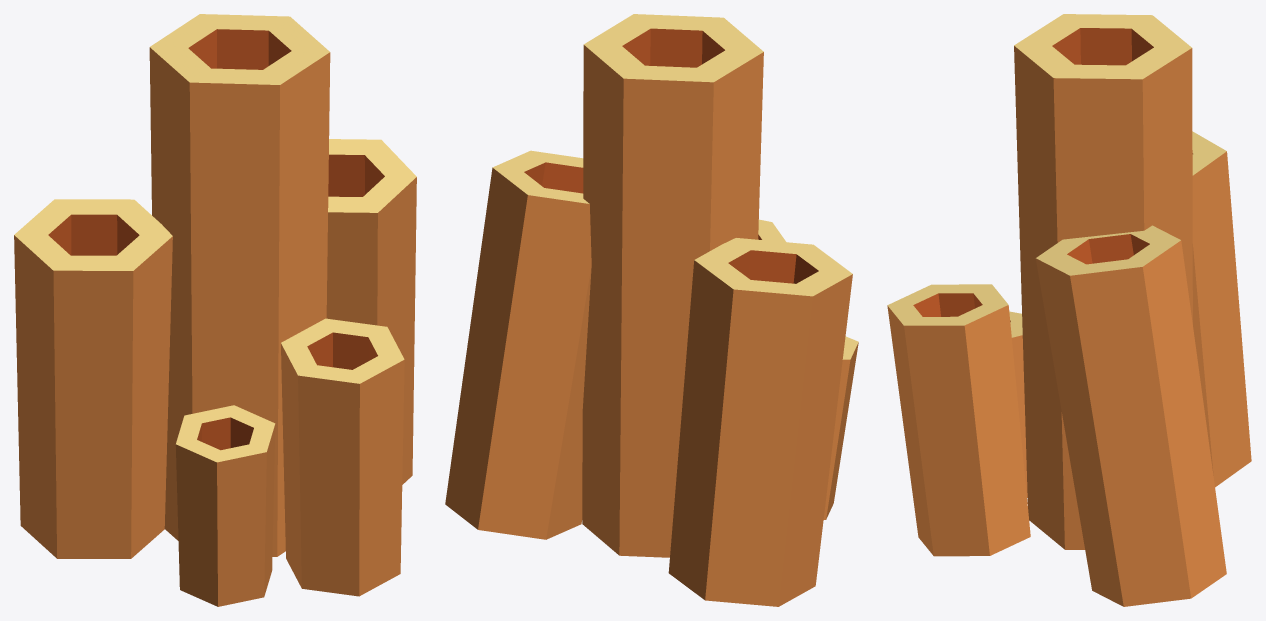
File: coral_tube_orange.fbx
3 renders of one model, left to right at view 1: azimuth 30°, elevation 25°; view 2: azimuth 150°, elevation 25°; view 3: azimuth 270°, elevation 25°, orthographic.
Parts seen in each view (by area): view 1: coral_tube_orange; view 2: coral_tube_orange; view 3: coral_tube_orange.
Part boxes in pixels (x1=…): coral_tube_orange: x1=14, y1=14, x2=416, y2=606; coral_tube_orange: x1=445, y1=14, x2=858, y2=606; coral_tube_orange: x1=887, y1=14, x2=1251, y2=606.
Size of the model in its own units: 430 by 547 by 374.
1 material, 1 textured.
